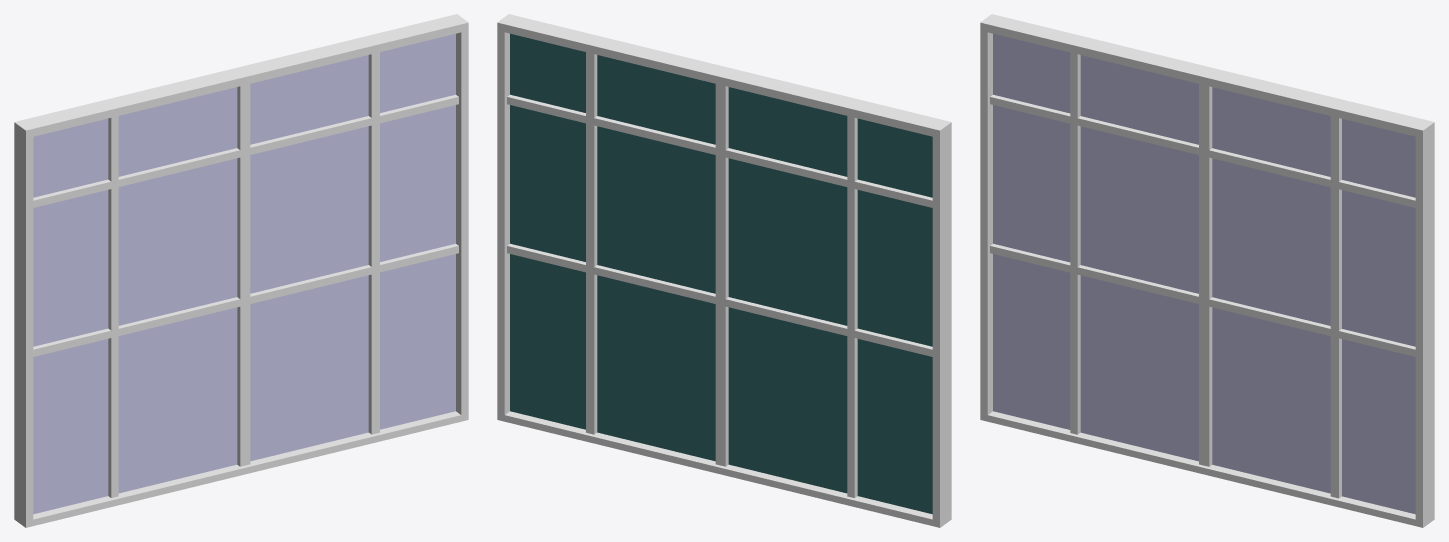
File: M_Window350x300White100-1.FBX
The picture shows the model from 3 angles, left to right: view 1: azimuth 30°, elevation 25°; view 2: azimuth 150°, elevation 25°; view 3: azimuth 330°, elevation 25°; orthographic projection.
Visible parts, largest first — view 1: M_Window350x300White100-1; view 2: M_Window350x300White100-1; view 3: M_Window350x300White100-1.
Boxes of the visible parts, bbox=[...] form: M_Window350x300White100-1: bbox=[14, 14, 468, 527]; M_Window350x300White100-1: bbox=[497, 14, 951, 527]; M_Window350x300White100-1: bbox=[980, 14, 1434, 527].
Size of the model in its own units: 3.5 by 3 by 0.1598.
